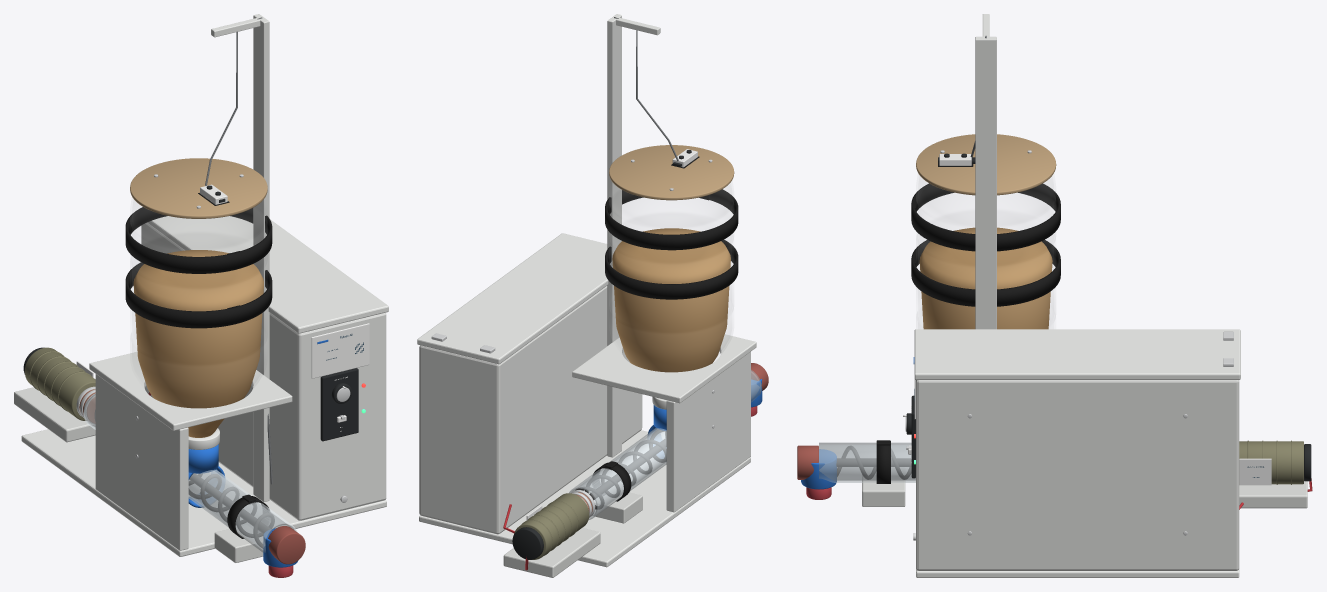
The model's file is feeder-v1.1.1.glb.
3 views of the same model, side by side, from view 1: azimuth 30°, elevation 25°; view 2: azimuth 150°, elevation 25°; view 3: azimuth 270°, elevation 25° (orthographic). The views are drawn at different scales.
Parts seen in each view (by area): view 1: Chassis, Grain_Fill, Shelf_Support, Chassis_Lid, Hopper_Lid, Base_Plate, Hopper_Glass, Post, Shelf, Tube_Glass, Hopper_Strap_2, Hopper_Strap_1 (+12 smaller); view 2: Chassis, Grain_Fill, Chassis_Lid, Shelf_Support, Base_Plate, Hopper_Lid, Shelf, Hopper_Glass, Post, Tube_Glass, Hopper_Strap_2, Hopper_Strap_1 (+6 smaller); view 3: Chassis, Chassis_Lid, Grain_Fill, Post, Hopper_Lid, Hopper_Glass, Hopper_Strap_2, Tube_Glass, Hopper_Strap_1, Base_Plate, Motor_Body, Motor_Mount (+4 smaller).
Boxes of the visible parts, x1,y1,x2,y2 form: Chassis: [141, 222, 386, 520]; Grain_Fill: [133, 250, 263, 437]; Shelf_Support: [95, 374, 188, 550]; Chassis_Lid: [147, 216, 388, 333]; Hopper_Lid: [130, 158, 267, 218]; Base_Plate: [21, 429, 386, 556]; Hopper_Glass: [130, 200, 266, 389]; Post: [253, 14, 269, 501]; Shelf: [89, 351, 292, 430]; Tube_Glass: [84, 394, 296, 552]; Hopper_Strap_2: [125, 207, 272, 273]; Hopper_Strap_1: [125, 253, 272, 328]; Chassis: [419, 286, 642, 534]; Grain_Fill: [612, 228, 730, 372]; Chassis_Lid: [417, 233, 608, 364]; Shelf_Support: [666, 352, 750, 512]; Base_Plate: [419, 430, 750, 567]; Hopper_Lid: [609, 145, 734, 200]; Shelf: [572, 334, 756, 403]; Hopper_Glass: [610, 183, 733, 355]; Post: [607, 14, 621, 457]; Tube_Glass: [569, 370, 761, 519]; Hopper_Strap_2: [605, 189, 738, 250]; Hopper_Strap_1: [605, 231, 738, 299]; Chassis: [916, 380, 1239, 570]; Chassis_Lid: [914, 329, 1240, 379]; Grain_Fill: [919, 227, 1052, 329]; Post: [975, 36, 996, 329]; Hopper_Lid: [916, 134, 1056, 195]; Hopper_Glass: [916, 176, 1055, 328]; Hopper_Strap_2: [911, 183, 1060, 251]; Tube_Glass: [819, 442, 915, 482]; Hopper_Strap_1: [911, 240, 1060, 306]; Base_Plate: [916, 568, 1239, 577]; Motor_Body: [1239, 441, 1303, 484]; Motor_Mount: [1239, 481, 1307, 508].
Size of the model in its own units: 0.359 by 0.7611 by 0.7167.
